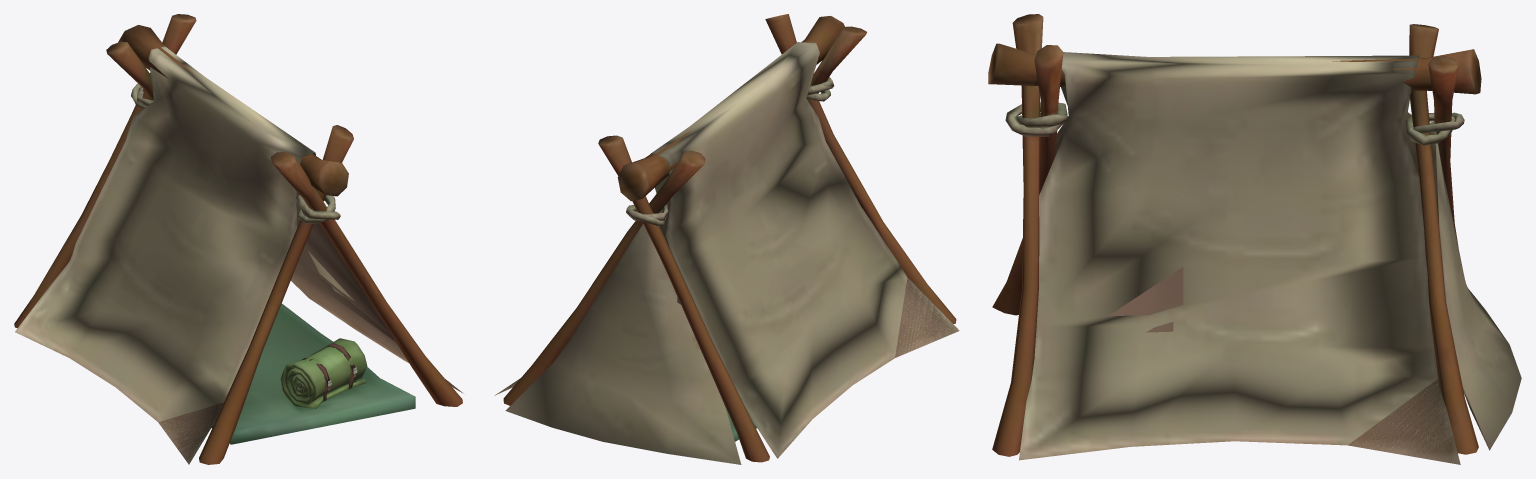
The model's file is PRP_Tent_lod.glb.
The picture shows the model from 3 angles, left to right: view 1: azimuth 30°, elevation 25°; view 2: azimuth 150°, elevation 25°; view 3: azimuth 270°, elevation 25°; orthographic projection. The views are drawn at different scales.
Parts seen in each view (by area): view 1: tent_Mat_0; view 2: tent_Mat_0; view 3: tent_Mat_0.
Part boxes in pixels (x1,y1,x2,y2): tent_Mat_0: (14,14,463,464); tent_Mat_0: (494,14,959,464); tent_Mat_0: (988,14,1521,464).
Bounding box in the file's own units: 183 × 179 × 248.
Materials: 1 (1 with a texture image).
